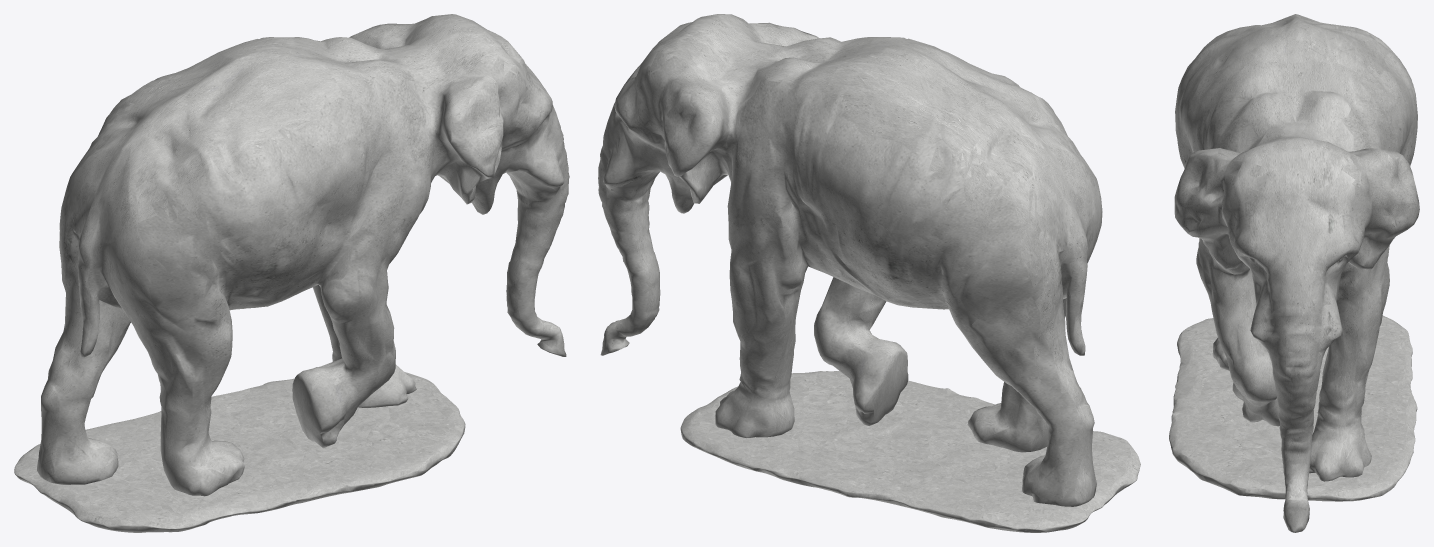
File: elephant_4f6f2f70.glb
The picture shows the model from 3 angles, left to right: view 1: azimuth 30°, elevation 25°; view 2: azimuth 150°, elevation 25°; view 3: azimuth 270°, elevation 25°; orthographic projection. The views are drawn at different scales.
Parts seen in each view (by area): view 1: Object_2, Object_3; view 2: Object_2, Object_3; view 3: Object_2, Object_3.
Part boxes in pixels (x1,y1,x2,y2): Object_2: (37, 14, 569, 496); Object_3: (14, 372, 465, 532); Object_2: (598, 14, 1102, 506); Object_3: (680, 371, 1140, 532); Object_2: (1174, 14, 1419, 532); Object_3: (1169, 315, 1417, 501).
Size of the model in its own units: 61.4 by 45.72 by 26.9.
Materials: 1 (1 with a texture image).
